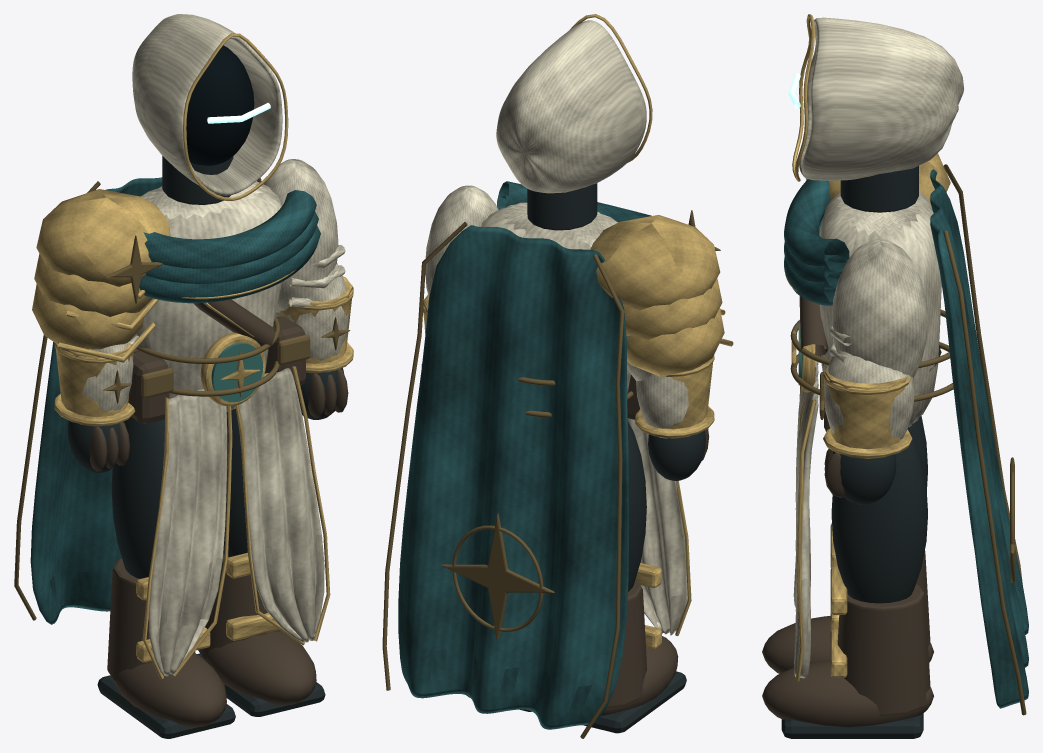
Rendered from wanderer.glb.
3 renders of one model, left to right at view 1: azimuth 30°, elevation 25°; view 2: azimuth 150°, elevation 25°; view 3: azimuth 270°, elevation 25°, orthographic. The views are drawn at different scales.
Parts seen in each view (by area): view 1: Wanderer_Split_tunic, Wanderer_Split_tunic.001, Wanderer_Cloak, Wanderer_Sculpted_hood, Wanderer_Tailored_tunic, Wanderer_Pauldron_plate_Left, Wanderer_Trouser_Left, Wanderer_Boot_Right, Wanderer_Hidden_face, Wanderer_Draped_cowl, Wanderer_Boot_Left, Wanderer_Upper_arm_Right (+38 smaller); view 2: Wanderer_Cloak, Wanderer_Sculpted_hood, Wanderer_Pauldron_plate_Left, Wanderer_Split_tunic, Wanderer_Pauldron_plate_Left.002, Wanderer_Pauldron_plate_Left.001, Wanderer_Cloak_star, Wanderer_Upper_arm_Right, Wanderer_Boot_shaft_Left, Wanderer_Neck, Wanderer_Tailored_tunic, Wanderer_Cloak_border (+12 smaller); view 3: Wanderer_Sculpted_hood, Wanderer_Cloak, Wanderer_Trouser_Right, Wanderer_Upper_arm_Right, Wanderer_Boot_shaft_Right, Wanderer_Tailored_tunic, Wanderer_Boot_Right, Wanderer_Bracer_Right, Wanderer_Draped_cowl, Wanderer_Split_tunic.001, Wanderer_Sleeve_Right, Wanderer_Neck (+22 smaller).
Part boxes in pixels (bbox=[...]): Wanderer_Split_tunic: bbox=[148, 389, 227, 676]; Wanderer_Split_tunic.001: bbox=[237, 368, 324, 642]; Wanderer_Cloak: bbox=[30, 177, 162, 624]; Wanderer_Sculpted_hood: bbox=[132, 14, 282, 195]; Wanderer_Tailored_tunic: bbox=[134, 181, 281, 411]; Wanderer_Pauldron_plate_Left: bbox=[36, 189, 170, 286]; Wanderer_Trouser_Left: bbox=[111, 417, 164, 578]; Wanderer_Boot_Right: bbox=[202, 630, 316, 705]; Wanderer_Hidden_face: bbox=[186, 45, 254, 165]; Wanderer_Draped_cowl: bbox=[143, 190, 316, 268]; Wanderer_Boot_Left: bbox=[113, 652, 226, 727]; Wanderer_Upper_arm_Right: bbox=[264, 159, 338, 312]; Wanderer_Cloak: bbox=[398, 225, 628, 729]; Wanderer_Sculpted_hood: bbox=[496, 20, 646, 193]; Wanderer_Pauldron_plate_Left: bbox=[590, 215, 720, 310]; Wanderer_Split_tunic: bbox=[627, 418, 687, 635]; Wanderer_Pauldron_plate_Left.002: bbox=[626, 308, 724, 376]; Wanderer_Pauldron_plate_Left.001: bbox=[623, 278, 722, 339]; Wanderer_Cloak_star: bbox=[441, 513, 554, 640]; Wanderer_Upper_arm_Right: bbox=[425, 185, 498, 297]; Wanderer_Boot_shaft_Left: bbox=[607, 579, 647, 707]; Wanderer_Neck: bbox=[527, 183, 597, 230]; Wanderer_Tailored_tunic: bbox=[481, 202, 630, 392]; Wanderer_Cloak_border: bbox=[580, 254, 624, 738]; Wanderer_Sculpted_hood: bbox=[799, 17, 963, 180]; Wanderer_Cloak: bbox=[930, 169, 1028, 708]; Wanderer_Trouser_Right: bbox=[831, 428, 927, 603]; Wanderer_Upper_arm_Right: bbox=[831, 239, 927, 378]; Wanderer_Boot_shaft_Right: bbox=[837, 584, 930, 715]; Wanderer_Tailored_tunic: bbox=[819, 192, 941, 426]; Wanderer_Boot_Right: bbox=[762, 660, 933, 727]; Wanderer_Bracer_Right: bbox=[824, 367, 906, 458]; Wanderer_Draped_cowl: bbox=[784, 179, 849, 273]; Wanderer_Split_tunic.001: bbox=[794, 376, 818, 678]; Wanderer_Sleeve_Right: bbox=[824, 349, 914, 439]; Wanderer_Neck: bbox=[840, 166, 918, 212].
Size of the model in its own units: 1.16 by 2.52 by 0.8838.
Materials: 9 (3 with a texture image).
